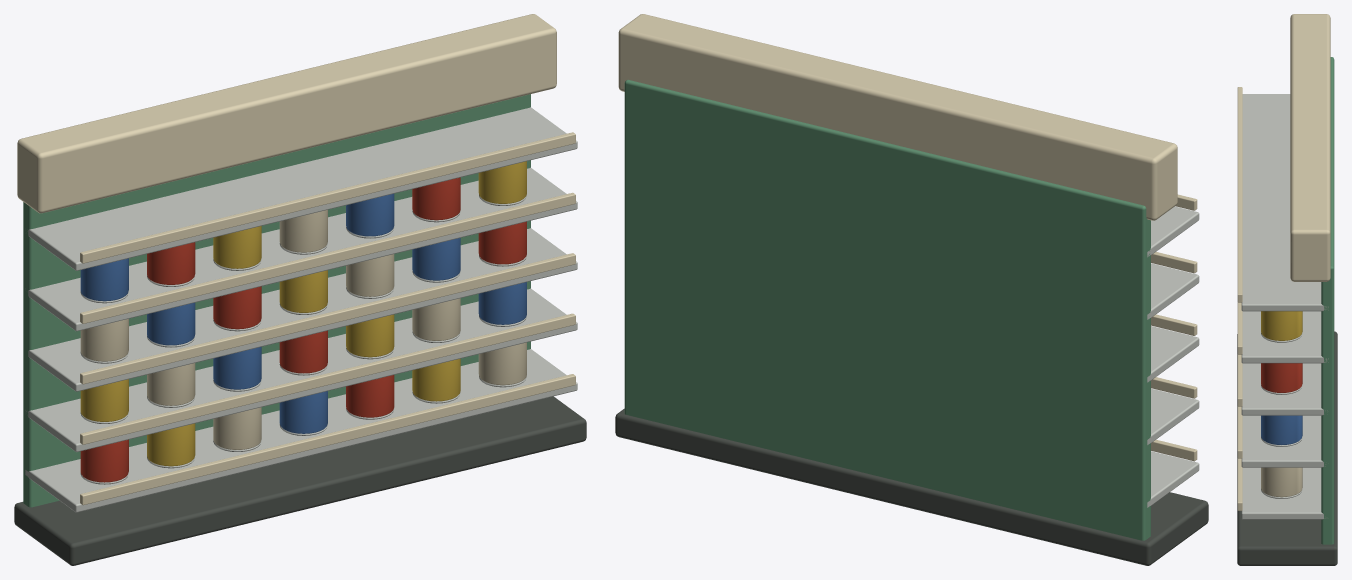
The model's file is miller_paint_display.glb.
3 views of the same model, side by side, from view 1: azimuth 30°, elevation 25°; view 2: azimuth 150°, elevation 25°; view 3: azimuth 270°, elevation 25° (orthographic). The views are drawn at different scales.
Visible parts, largest first — view 1: miller_paint_display_miller_aged_cream_enamel_pbr, miller_paint_display_miller_galvanized_steel_pbr, miller_paint_display_miller_blackened_steel_pbr, miller_paint_display_miller_forest_enamel_pbr, miller_paint_display_miller_safety_red_enamel_pbr, miller_paint_display_miller_paint_blue_enamel_pbr, miller_paint_display_miller_safety_yellow_enamel_pbr; view 2: miller_paint_display_miller_forest_enamel_pbr, miller_paint_display_miller_aged_cream_enamel_pbr, miller_paint_display_miller_blackened_steel_pbr, miller_paint_display_miller_galvanized_steel_pbr; view 3: miller_paint_display_miller_galvanized_steel_pbr, miller_paint_display_miller_aged_cream_enamel_pbr, miller_paint_display_miller_blackened_steel_pbr, miller_paint_display_miller_forest_enamel_pbr, miller_paint_display_miller_paint_blue_enamel_pbr, miller_paint_display_miller_safety_red_enamel_pbr, miller_paint_display_miller_safety_yellow_enamel_pbr.
Boxes of the visible parts, <box> form: miller_paint_display_miller_aged_cream_enamel_pbr: <box>17,14,575,505</box>; miller_paint_display_miller_galvanized_steel_pbr: <box>25,107,577,512</box>; miller_paint_display_miller_blackened_steel_pbr: <box>14,396,586,565</box>; miller_paint_display_miller_forest_enamel_pbr: <box>23,94,530,507</box>; miller_paint_display_miller_safety_red_enamel_pbr: <box>80,177,526,482</box>; miller_paint_display_miller_paint_blue_enamel_pbr: <box>80,193,526,433</box>; miller_paint_display_miller_safety_yellow_enamel_pbr: <box>80,161,526,466</box>; miller_paint_display_miller_forest_enamel_pbr: <box>624,79,1150,540</box>; miller_paint_display_miller_aged_cream_enamel_pbr: <box>618,14,1197,461</box>; miller_paint_display_miller_blackened_steel_pbr: <box>615,408,1208,565</box>; miller_paint_display_miller_galvanized_steel_pbr: <box>1147,206,1199,507</box>; miller_paint_display_miller_galvanized_steel_pbr: <box>1241,94,1328,519</box>; miller_paint_display_miller_aged_cream_enamel_pbr: <box>1237,14,1330,510</box>; miller_paint_display_miller_blackened_steel_pbr: <box>1237,331,1337,565</box>; miller_paint_display_miller_forest_enamel_pbr: <box>1321,57,1334,544</box>; miller_paint_display_miller_paint_blue_enamel_pbr: <box>1261,415,1302,444</box>; miller_paint_display_miller_safety_red_enamel_pbr: <box>1261,363,1302,392</box>; miller_paint_display_miller_safety_yellow_enamel_pbr: <box>1261,311,1302,340</box>.
Size of the model in its own units: 3.6 by 2.59 by 0.7.
